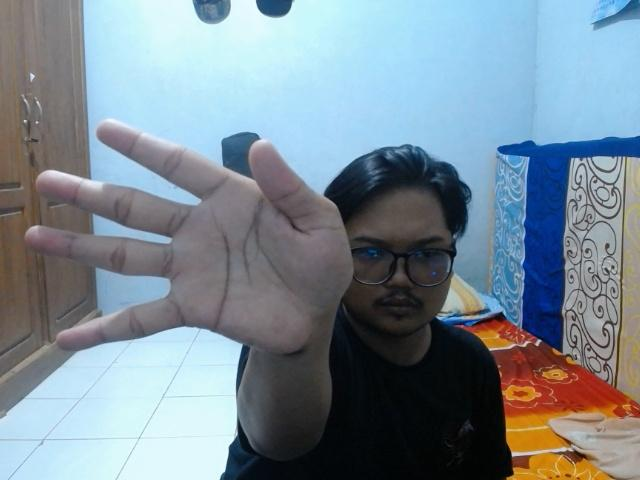Release: (17, 113, 363, 361)
